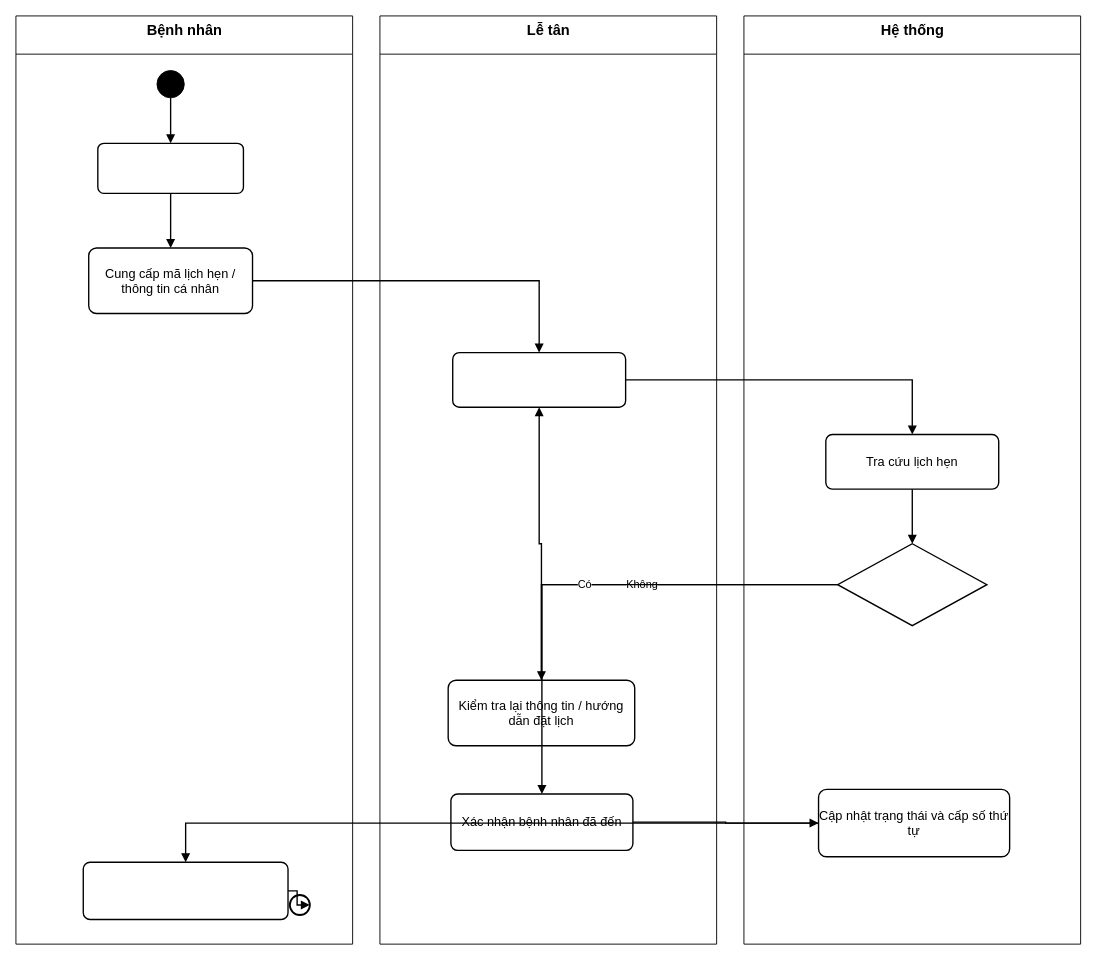
This 1097x960 diagram has some shape labels left out. The centre of each missing label's shape, as x and y in pixels:
"Nhận số thứ tự, chờ đến lượt khám" goes at (185,890).
"Tiếp nhận thông tin" goes at (539,379).
"Tìm thấy lịch hẹn hợp lệ?" goes at (912,584).
"Đến phòng khám" goes at (170,168).
